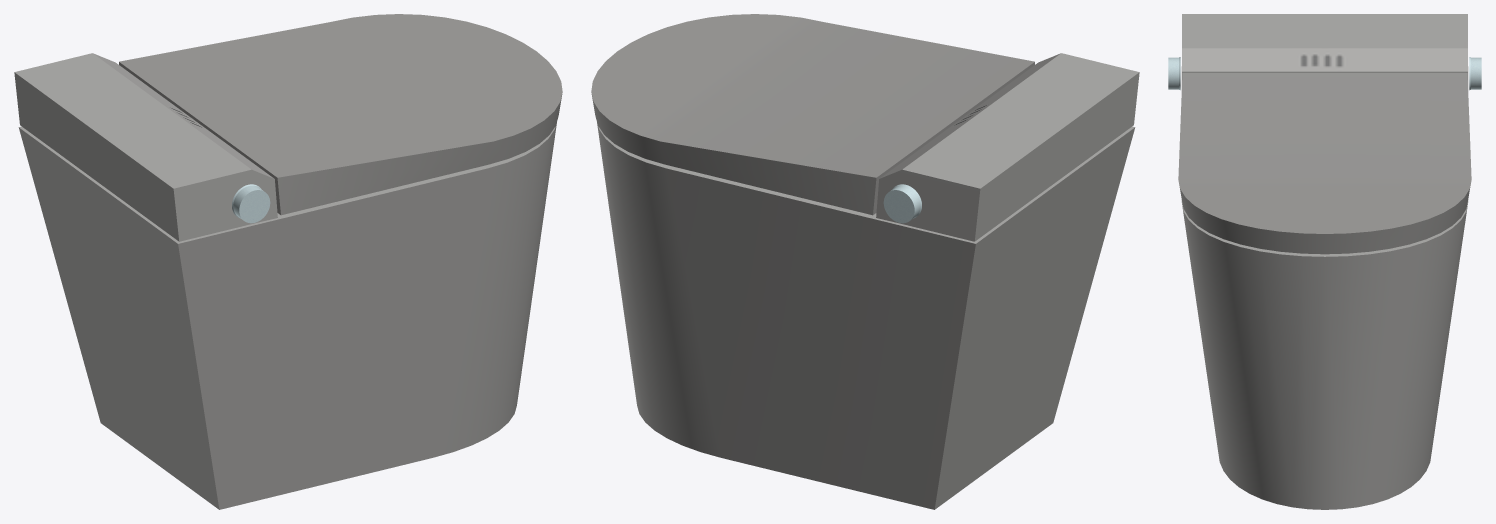
File: visual_LowPoly_08_Toilet.dae
3 renders of one model, left to right at view 1: azimuth 30°, elevation 25°; view 2: azimuth 150°, elevation 25°; view 3: azimuth 270°, elevation 25°, orthographic. The views are drawn at different scales.
Visible parts, largest first — view 1: SM_toilet; view 2: SM_toilet; view 3: SM_toilet.
Part boxes in pixels (bbox=[...]): SM_toilet: bbox=[14, 14, 562, 509]; SM_toilet: bbox=[591, 14, 1139, 509]; SM_toilet: bbox=[1168, 14, 1481, 509].
Bounding box in the file's own units: 60.03 × 40.93 × 45.64.
Materials: 1 (1 with a texture image).
